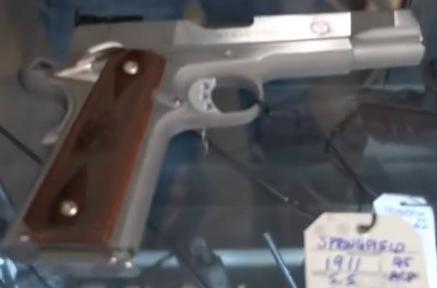gun: (1, 1, 437, 288)
